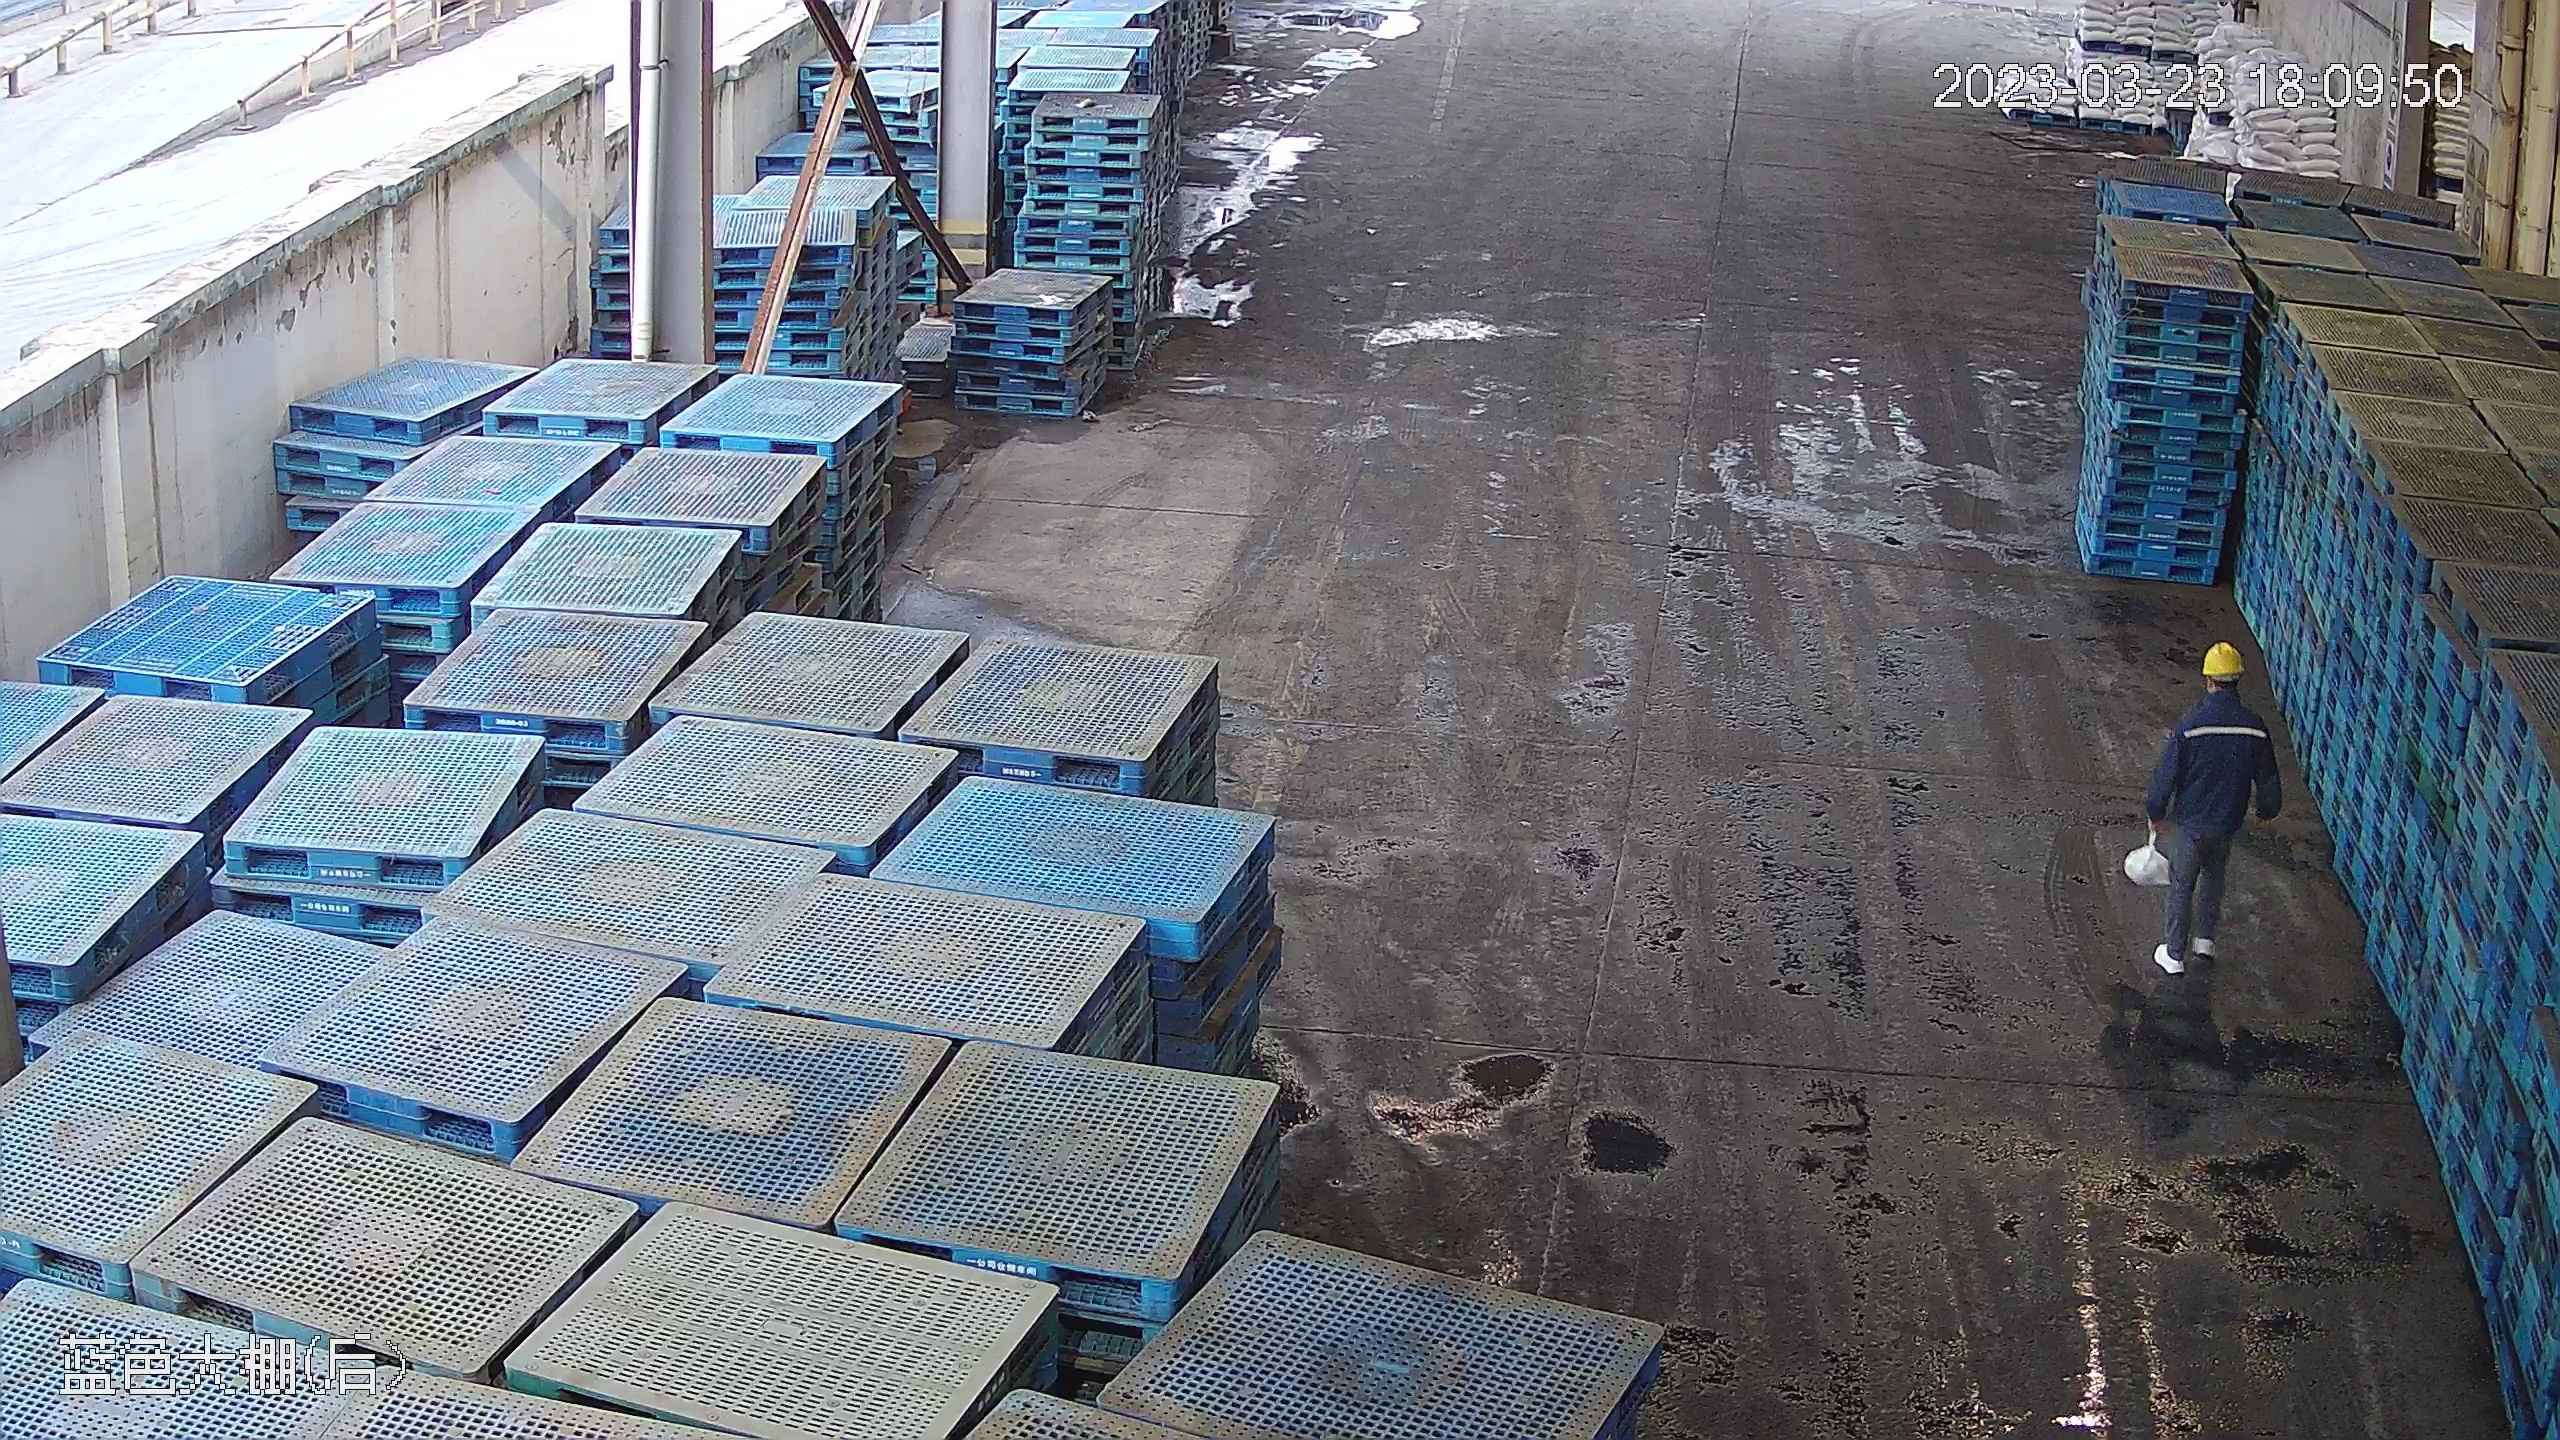head: (2181, 639, 2268, 733)
helmet: (2199, 640, 2247, 678)
people: (2140, 639, 2278, 976)
